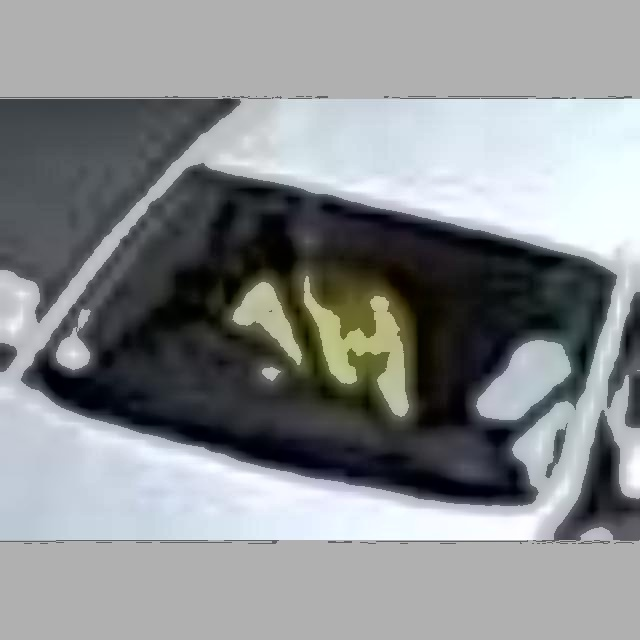pakai: (208, 203, 398, 402), (467, 263, 605, 462)
